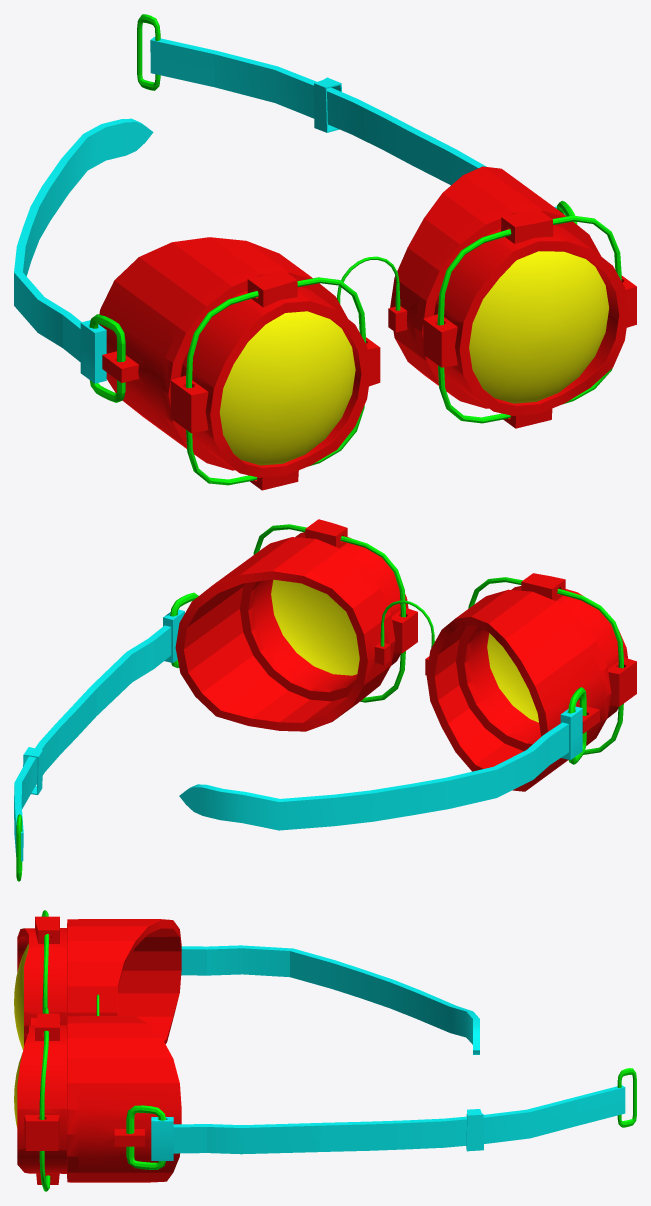
Rendered from Googles.fbx.
3 renders of one model, top to bottom at view 1: azimuth 30°, elevation 25°; view 2: azimuth 150°, elevation 25°; view 3: azimuth 270°, elevation 25°, orthographic. The views are drawn at different scales.
Visible parts, largest first — view 1: polySurface19, polySurface24, polySurface21, polySurface22, polySurface27, polySurface25, polySurface30, polySurface26, polySurface18, polySurface28, polySurface20; view 2: polySurface24, polySurface19, polySurface25, polySurface27, polySurface21, polySurface22, polySurface26, polySurface30, polySurface18; view 3: polySurface24, polySurface19, polySurface27, polySurface25, polySurface23, polySurface26, polySurface22, polySurface28, polySurface20, polySurface30.
Boxes of the visible parts, bbox=[...] form: polySurface19: bbox=[99, 237, 380, 490]; polySurface24: bbox=[388, 166, 636, 428]; polySurface21: bbox=[469, 251, 608, 403]; polySurface22: bbox=[219, 311, 355, 465]; polySurface27: bbox=[150, 37, 565, 215]; polySurface25: bbox=[14, 118, 153, 383]; polySurface30: bbox=[186, 277, 365, 485]; polySurface26: bbox=[437, 215, 621, 423]; polySurface18: bbox=[89, 314, 125, 402]; polySurface28: bbox=[314, 77, 341, 132]; polySurface20: bbox=[137, 14, 160, 90]; polySurface24: bbox=[175, 519, 417, 731]; polySurface19: bbox=[425, 573, 636, 791]; polySurface25: bbox=[179, 706, 582, 830]; polySurface27: bbox=[14, 609, 184, 861]; polySurface21: bbox=[271, 579, 359, 675]; polySurface22: bbox=[487, 633, 538, 722]; polySurface26: bbox=[253, 524, 405, 702]; polySurface30: bbox=[468, 577, 623, 754]; polySurface18: bbox=[568, 687, 586, 764]; polySurface24: bbox=[17, 1013, 181, 1184]; polySurface19: bbox=[17, 916, 181, 1044]; polySurface27: bbox=[151, 1085, 625, 1160]; polySurface25: bbox=[181, 945, 479, 1054]; polySurface23: bbox=[126, 1105, 165, 1169]; polySurface26: bbox=[39, 1007, 50, 1191]; polySurface22: bbox=[14, 943, 28, 1050]; polySurface28: bbox=[466, 1109, 483, 1151]; polySurface20: bbox=[617, 1068, 636, 1127]; polySurface30: bbox=[41, 910, 48, 1013].
Bounding box in the file's own units: 19.39 × 7.79 × 27.91.
